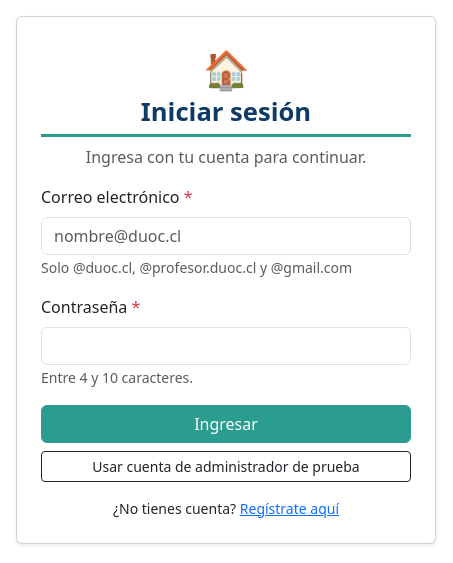
Test case: Formulario de inicio de sesión › El botón de administrador de prueba rellena el formulario
Click the button "Usar cuenta de administrador de prueba".
click(226, 466)  # box [41,451,411,482]
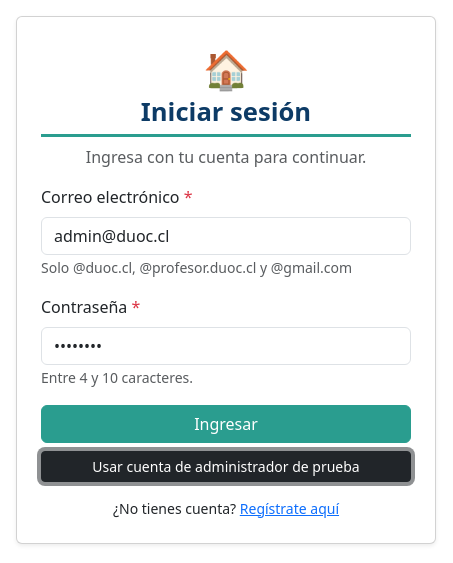
Result: the field labelled "Correo electrónico *" holds "admin@duoc.cl" at [41,217,411,255]
Result: the password field labelled "Contraseña *" is not empty at [41,327,411,365]
